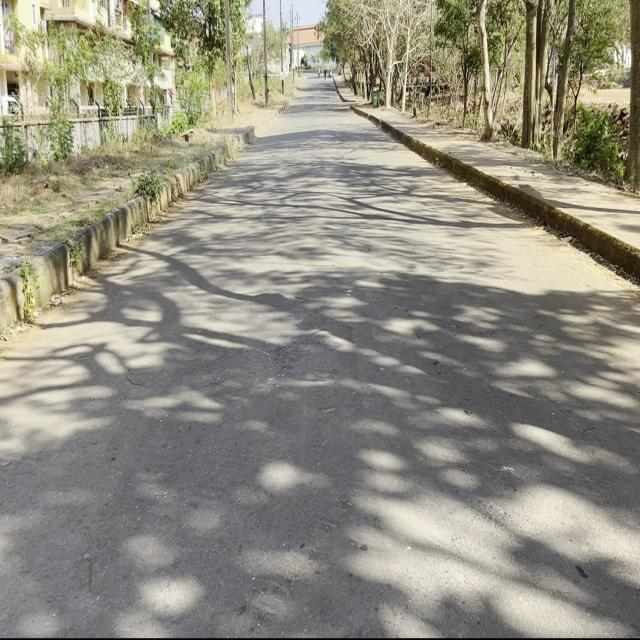Road: (3, 78, 637, 631)
